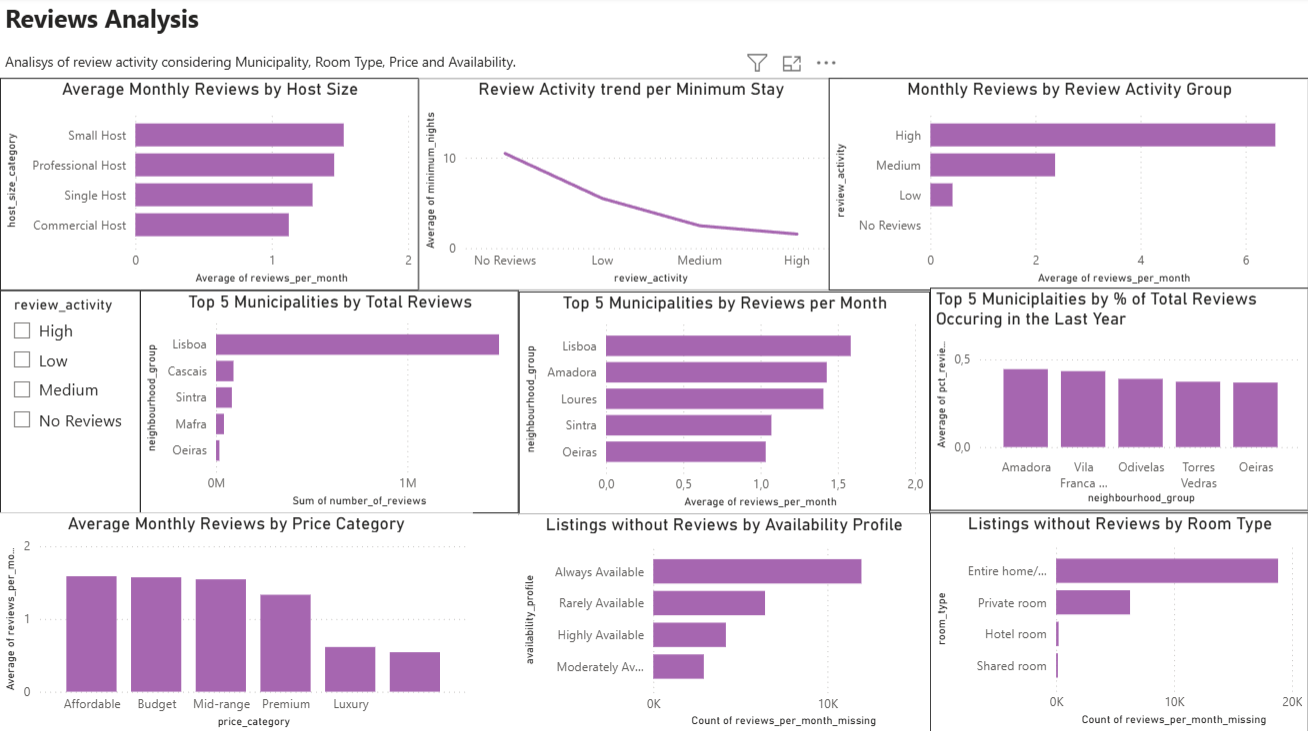

This screenshot's page, from the dashboard's own definition file:
{"tool":"powerbi","page":{"name":"Reviews Analysis","canvas":[1280,720],"ordinal":3},"visuals":[{"type":"textbox","box":[0,0,1280.3,79.5],"z":0},{"type":"barChart","title":"Average Monthly Reviews by Host Size","fields":{"Category":["listings_data_clean.host_size_category"],"Y":["Avg(listings_data_clean.reviews_per_month)"]},"box":[0,79.5,409.6,207.9],"z":1000},{"type":"slicer","fields":{"Values":["listings_data_clean.review_activity"]},"box":[0,286.8,137.2,218.2],"z":2000},{"type":"lineChart","title":"Review Activity trend per Minimum Stay","fields":{"Category":["listings_data_clean.review_activity"],"Y":["Avg(listings_data_clean.minimum_nights)"]},"box":[409.6,79.5,414.5,207.9],"z":3000},{"type":"clusteredBarChart","title":"Monthly Reviews by Review Activity Group","fields":{"Category":["listings_data_clean.review_activity"],"Y":["Avg(listings_data_clean.reviews_per_month)"]},"box":[810.7,79.5,469.6,207.9],"z":4000},{"type":"barChart","title":"Listings without Reviews by Room Type","fields":{"Category":["listings_data_clean.room_type"],"Y":["CountNonNull(listings_data_clean.reviews_per_month_missing)"]},"box":[909.8,505,370.5,215.2],"z":5000},{"type":"barChart","title":"Top 5 Municipalities by Reviews per Month","fields":{"Category":["listings_data_clean.neighbourhood_group"],"Y":["Avg(listings_data_clean.reviews_per_month)"]},"box":[507.7,288.2,402.1,218.2],"z":6000},{"type":"barChart","title":"Top 5 Municipalities by Total Reviews","fields":{"Category":["listings_data_clean.neighbourhood_group"],"Y":["Sum(listings_data_clean.number_of_reviews)"]},"box":[137.2,286.8,370.5,218.2],"z":7000},{"type":"columnChart","title":"Average Monthly Reviews by Price Category","fields":{"Category":["listings_data_clean.price_category"],"Y":["Avg(listings_data_clean.reviews_per_month)"]},"box":[0,505,462.4,215.4],"z":8000},{"type":"clusteredColumnChart","title":"Top 5 Municiplaities by % of Total Reviews Occuring in the Last Year","fields":{"Y":["Avg(listings_data_clean.pct_review_last_year)"],"Category":["listings_data_clean.neighbourhood_group"]},"box":[909.8,285.4,370.5,218.2],"z":10000},{"type":"clusteredBarChart","title":"Listings without Reviews by Availability Profile","fields":{"Category":["listings_data_clean.availability_profile"],"Y":["CountNonNull(listings_data_clean.reviews_per_month_missing)"]},"box":[507.5,506.3,402.3,214],"z":10001}]}

Visuals, with their boxes in screenshot pixels (x1, y1, x2, y2), scaled from the page's 1280x720 canvas onto the 1308x731 screenshot:
textbox: [left=0, top=0, right=1307, bottom=81]
"Average Monthly Reviews by Host Size" barChart: [left=0, top=81, right=419, bottom=292]
slicer - listings_data_clean.review_activity: [left=0, top=291, right=140, bottom=513]
"Review Activity trend per Minimum Stay" lineChart: [left=419, top=81, right=842, bottom=292]
"Monthly Reviews by Review Activity Group" clusteredBarChart: [left=828, top=81, right=1307, bottom=292]
"Listings without Reviews by Room Type" barChart: [left=930, top=513, right=1307, bottom=730]
"Top 5 Municipalities by Reviews per Month" barChart: [left=519, top=293, right=930, bottom=514]
"Top 5 Municipalities by Total Reviews" barChart: [left=140, top=291, right=519, bottom=513]
"Average Monthly Reviews by Price Category" columnChart: [left=0, top=513, right=473, bottom=730]
"Top 5 Municiplaities by % of Total Reviews Occuring in the Last Year" clusteredColumnChart: [left=930, top=290, right=1307, bottom=511]
"Listings without Reviews by Availability Profile" clusteredBarChart: [left=519, top=514, right=930, bottom=730]
